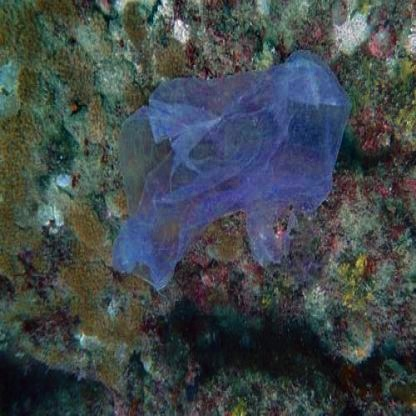pbag: (107, 44, 353, 290)
